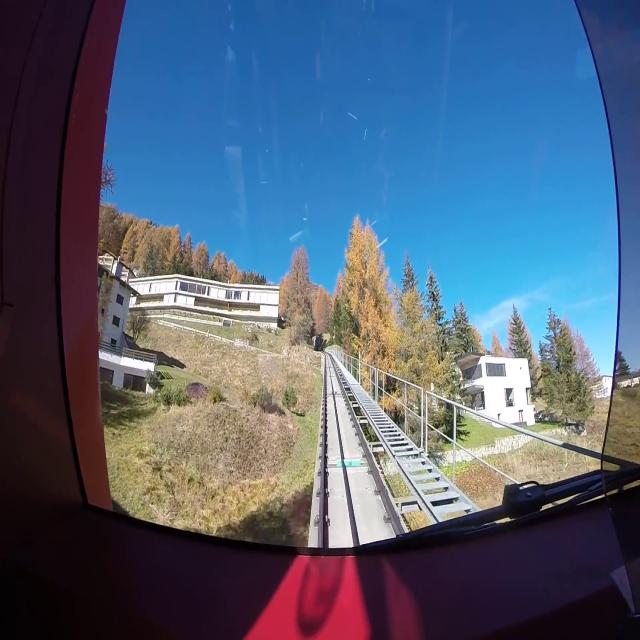rail-track: (346, 373, 432, 473), (324, 356, 379, 492)
